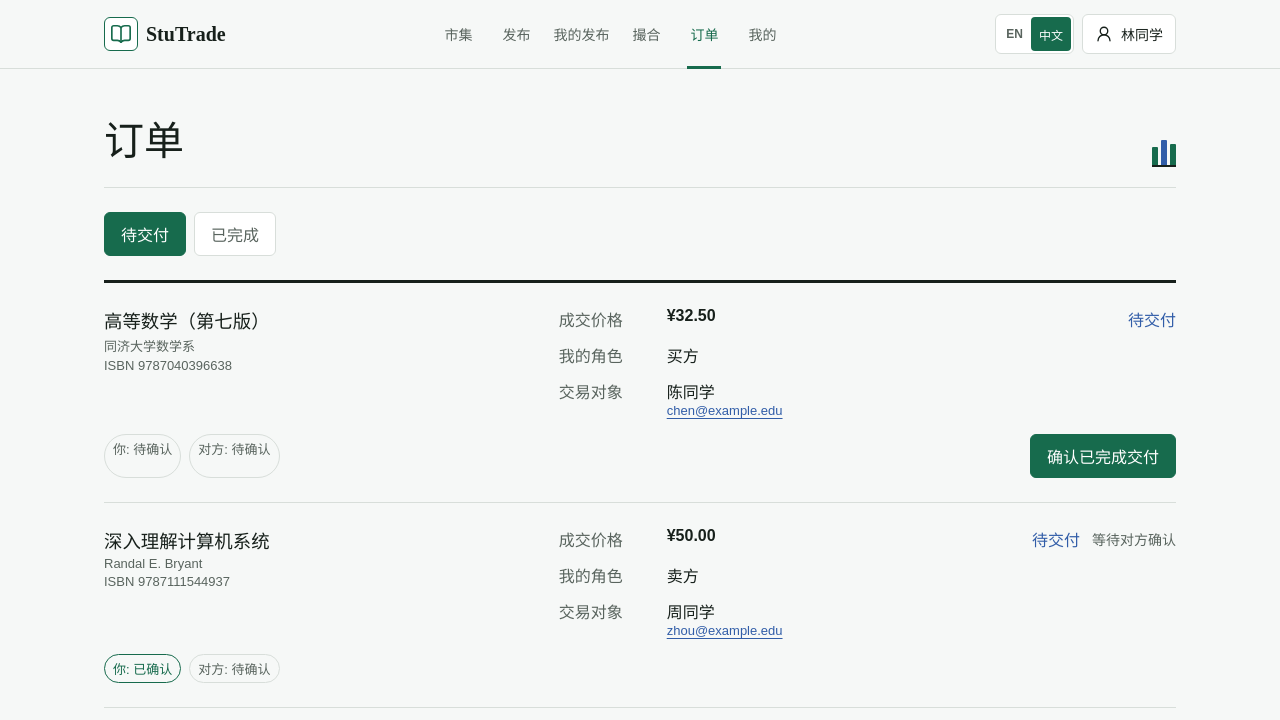
orders › switches status through the URL and shows completed orders
expect the text "高等数学（第七版）" is shown: met, box [104,312,270,332]
Click the button "已完成" at {"x": 235, "y": 234}, box [194,212,276,256]
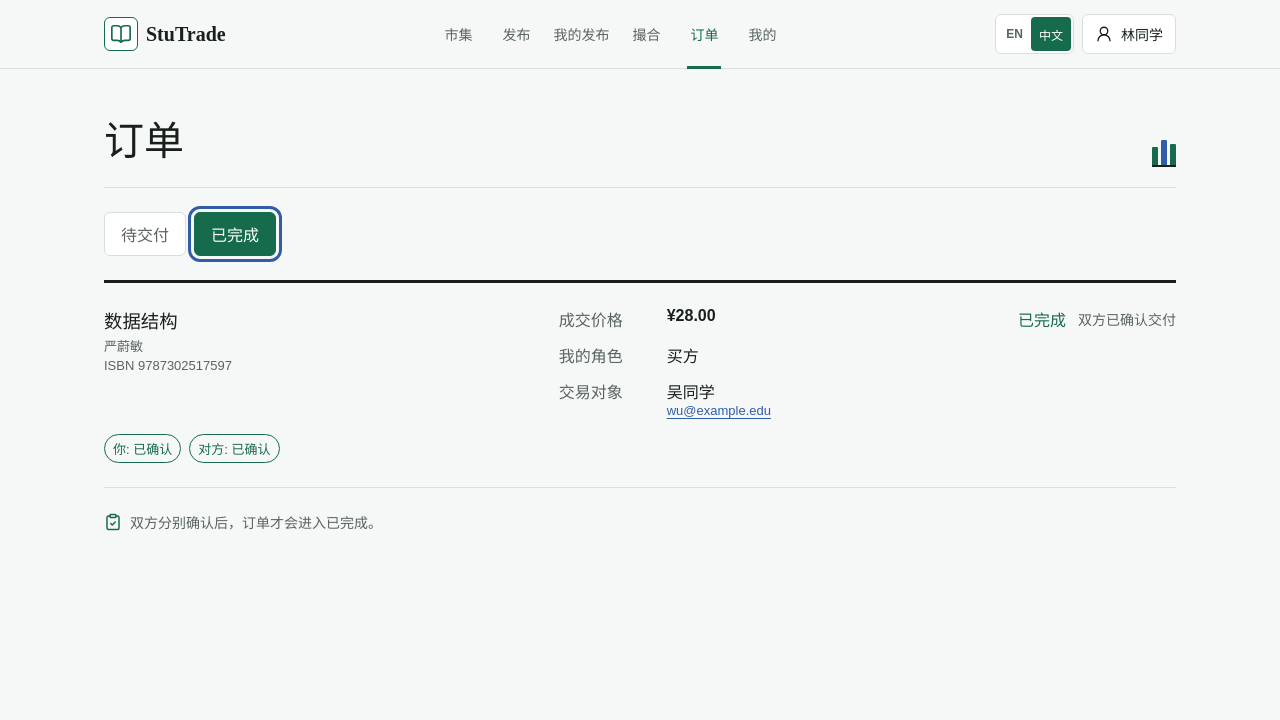
expect the text "数据结构" is shown: met, box [104,312,178,332]
expect the text "双方已确认交付" is shown: met, box [1078,309,1176,329]
